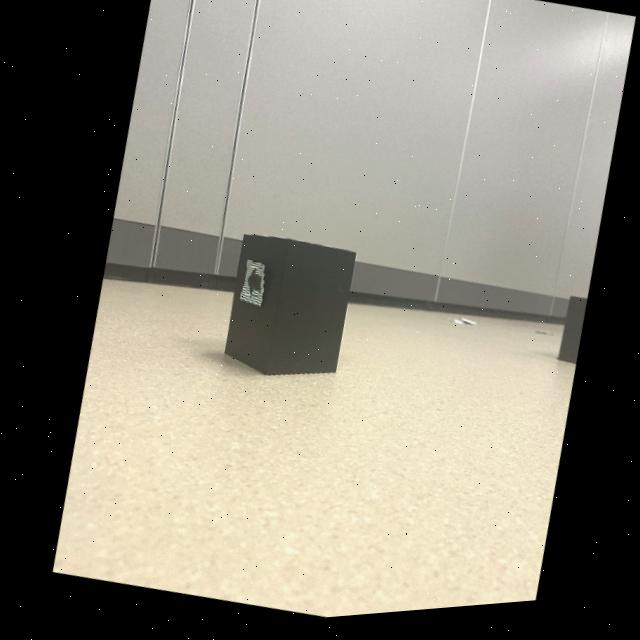LEFT: (242, 272, 257, 299)
